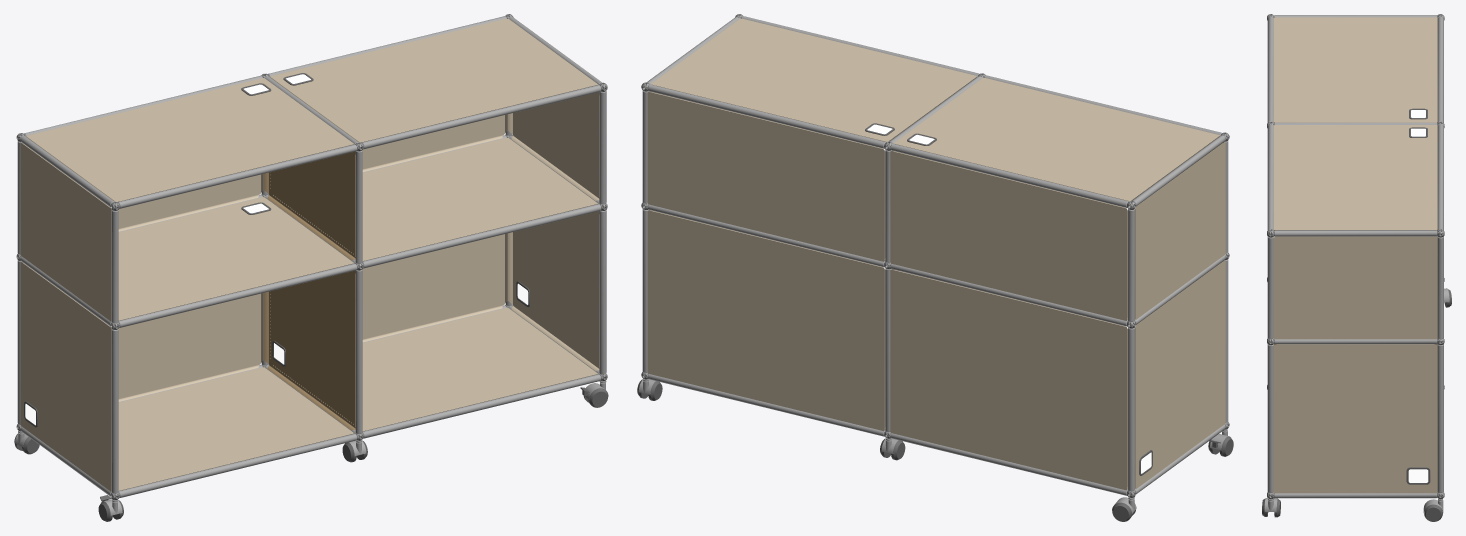
3 renders of one model, left to right at view 1: azimuth 30°, elevation 25°; view 2: azimuth 150°, elevation 25°; view 3: azimuth 270°, elevation 25°, orthographic. The views are drawn at different scales.
Parts seen in each view (by area): view 1: Polygons3D.051, Polygons3D.041, Polygons3D, Polygons3D.076, Polygons3D.043, Polygons3D.053, Polygons3D.031, Polygons3D.026, Polygons3D.033, Polygons3D.024, Polygons3D.002, Polygons3D.018 (+35 smaller); view 2: Polygons3D.026, Polygons3D.033, Polygons3D.012, Polygons3D.004, Polygons3D.041, Polygons3D.051, Polygons3D.027, Polygons3D.031, Polygons3D.034, Polygons3D.013, Polygons3D.002, Polygons3D.005 (+19 smaller); view 3: Polygons3D.024, Polygons3D.041, Polygons3D.051, Polygons3D.010, Polygons3D.052, Polygons3D.025, Polygons3D.042, Polygons3D.011, Polygons3D.111, Polygons3D.097, Polygons3D.099, Polygons3D.117 (+11 smaller).
Boxes of the visible parts, x1,y1,x2,y2 form: Polygons3D.051: [26, 78, 353, 201]; Polygons3D.041: [270, 18, 597, 142]; Polygons3D: [273, 308, 597, 431]; Polygons3D.076: [273, 137, 597, 261]; Polygons3D.043: [118, 367, 353, 490]; Polygons3D.053: [118, 197, 353, 320]; Polygons3D.031: [20, 262, 111, 491]; Polygons3D.026: [270, 233, 507, 358]; Polygons3D.033: [111, 293, 263, 401]; Polygons3D.024: [508, 211, 599, 370]; Polygons3D.002: [20, 143, 111, 321]; Polygons3D.018: [264, 270, 355, 430]; Polygons3D.026: [647, 210, 885, 430]; Polygons3D.033: [890, 269, 1127, 490]; Polygons3D.012: [647, 92, 885, 261]; Polygons3D.004: [890, 151, 1127, 320]; Polygons3D.041: [651, 18, 976, 141]; Polygons3D.051: [894, 77, 1219, 200]; Polygons3D.027: [647, 212, 885, 430]; Polygons3D.031: [1135, 261, 1225, 488]; Polygons3D.034: [890, 271, 1127, 488]; Polygons3D.013: [647, 92, 884, 261]; Polygons3D.002: [1135, 142, 1225, 319]; Polygons3D.005: [890, 152, 1127, 320]; Polygons3D.024: [1273, 344, 1437, 493]; Polygons3D.041: [1273, 125, 1437, 230]; Polygons3D.051: [1273, 17, 1437, 122]; Polygons3D.010: [1273, 236, 1437, 339]; Polygons3D.052: [1273, 17, 1437, 122]; Polygons3D.025: [1274, 344, 1437, 492]; Polygons3D.042: [1273, 125, 1437, 230]; Polygons3D.011: [1273, 237, 1437, 339]; Polygons3D.111: [1274, 230, 1437, 236]; Polygons3D.097: [1267, 344, 1273, 492]; Polygons3D.099: [1437, 344, 1443, 492]; Polygons3D.117: [1274, 339, 1437, 344].
Bounding box in the file's own units: 15.52 × 9.41 × 5.6.
69 materials, 65 textured.
